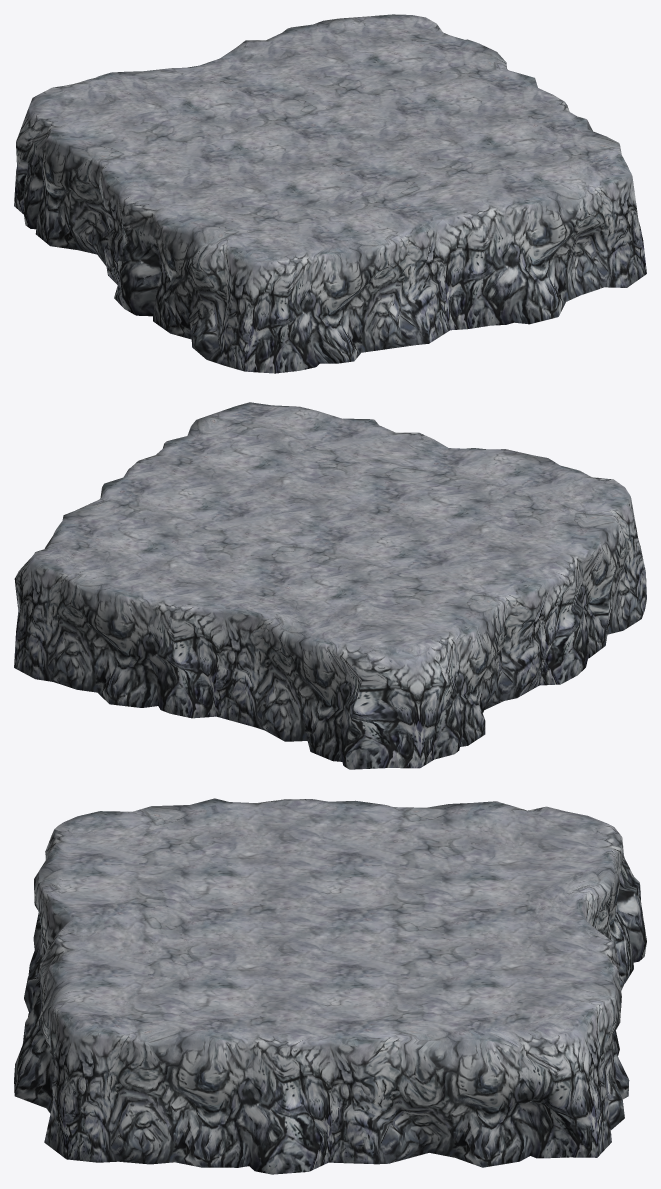
Rendered from STR_FloorCaveB.FBX.
3 views of the same model, one above another, from view 1: azimuth 30°, elevation 25°; view 2: azimuth 150°, elevation 25°; view 3: azimuth 270°, elevation 25° (orthographic). The views are drawn at different scales.
Parts seen in each view (by area): view 1: STR_FloorCaveB; view 2: STR_FloorCaveB; view 3: STR_FloorCaveB.
Boxes of the visible parts, box(x1,y1,x2,y2) form: STR_FloorCaveB: box(14, 14, 646, 373); STR_FloorCaveB: box(14, 402, 646, 769); STR_FloorCaveB: box(14, 798, 646, 1174).
Bounding box in the file's own units: 1844 × 401 × 1873.
